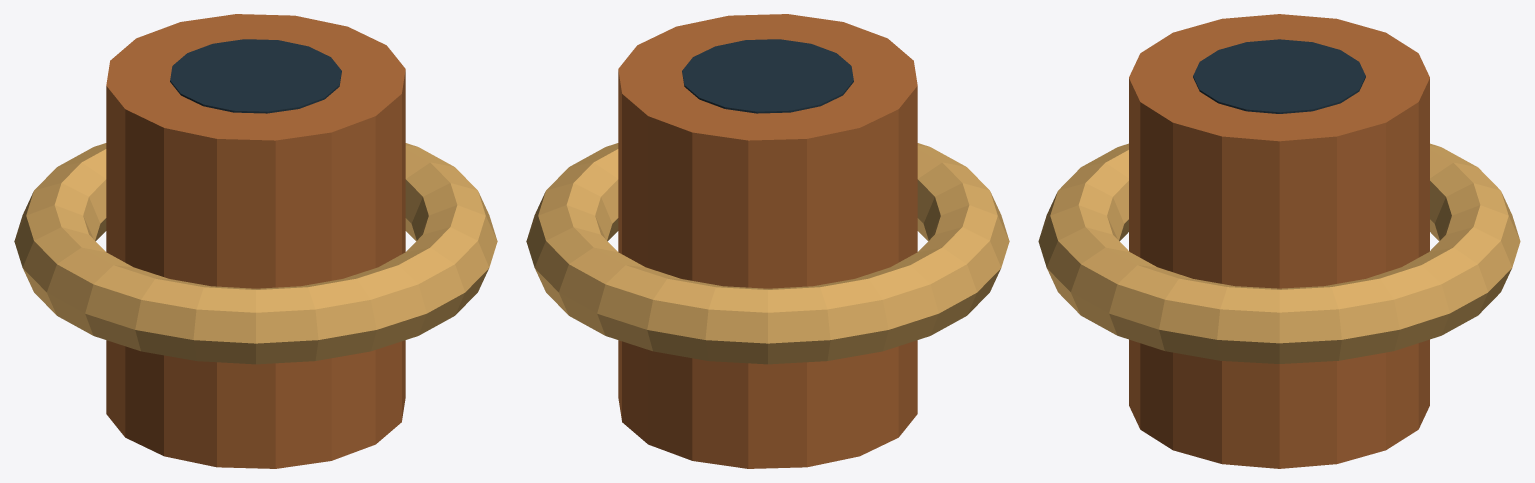
File: 57_L97_Via_Blind_L1_L2.fbx
The picture shows the model from 3 angles, left to right: view 1: azimuth 30°, elevation 25°; view 2: azimuth 150°, elevation 25°; view 3: azimuth 270°, elevation 25°; orthographic projection.
Parts seen in each view (by area): view 1: via_core, plated_via_ring, drill_core; view 2: via_core, plated_via_ring, drill_core; view 3: via_core, plated_via_ring, drill_core.
Part boxes in pixels (x1=…): via_core: x1=106, y1=14, x2=405, y2=468; plated_via_ring: x1=14, y1=143, x2=497, y2=364; drill_core: x1=170, y1=39, x2=341, y2=113; via_core: x1=618, y1=14, x2=917, y2=468; plated_via_ring: x1=526, y1=143, x2=1009, y2=364; drill_core: x1=682, y1=39, x2=853, y2=113; via_core: x1=1129, y1=14, x2=1429, y2=468; plated_via_ring: x1=1038, y1=143, x2=1520, y2=363; drill_core: x1=1193, y1=39, x2=1365, y2=113.
Size of the model in its own units: 0.0024 by 0.00182 by 0.0024.
